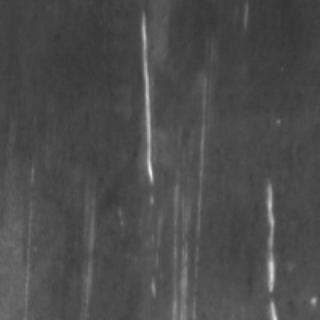scratches: (170, 119, 204, 315), (132, 5, 156, 185), (255, 176, 283, 316), (75, 181, 97, 313)
